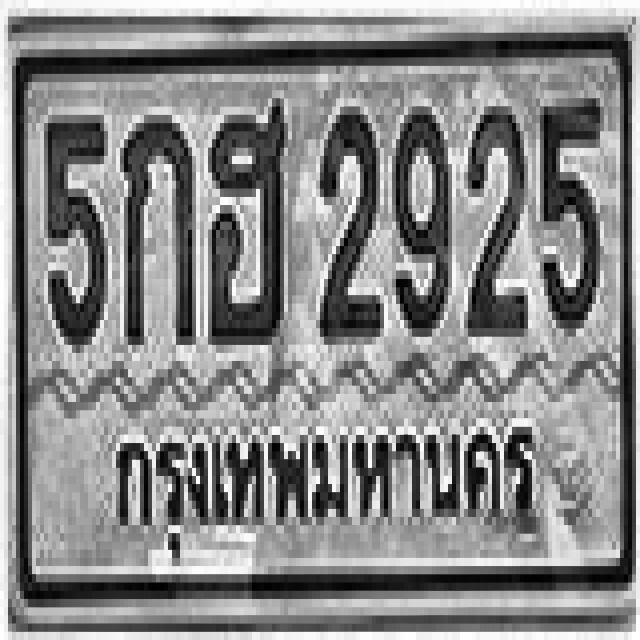license-plate: (17, 32, 632, 607)
